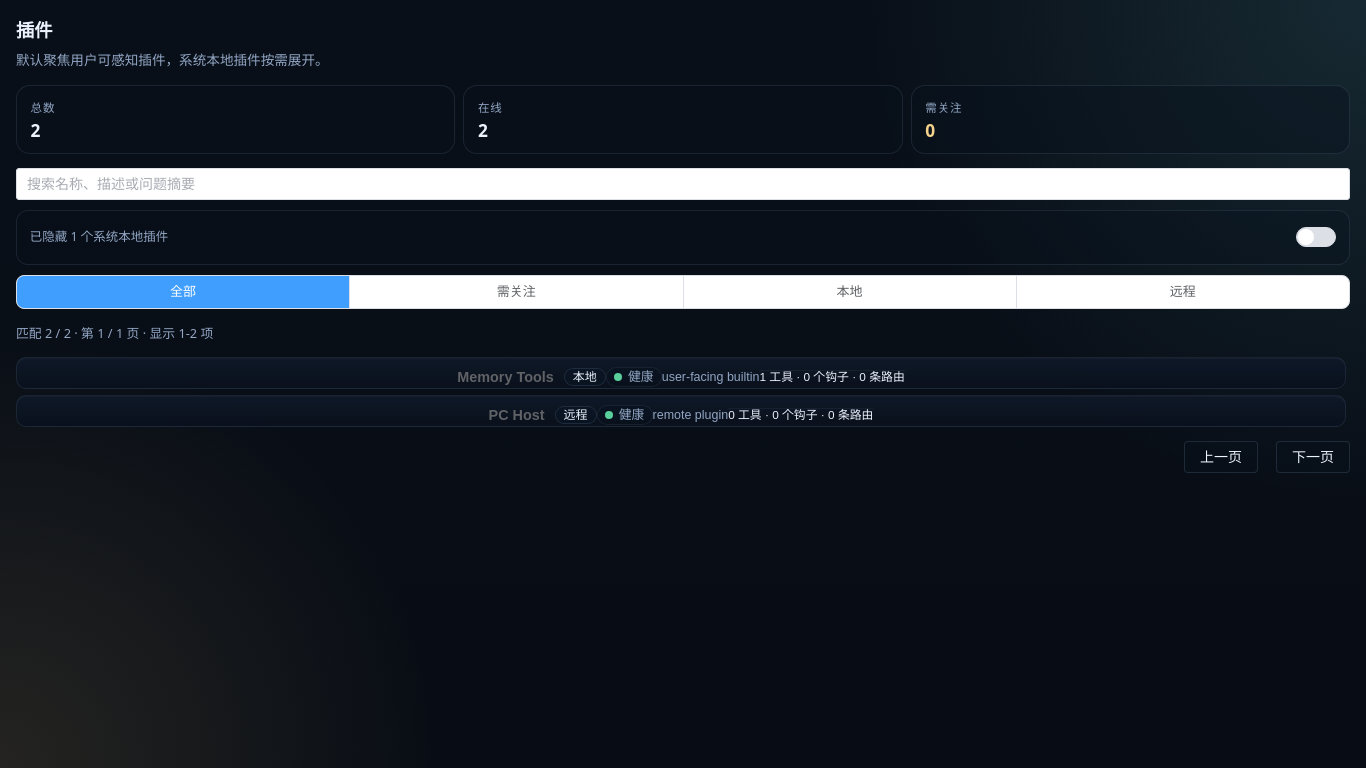
PluginSidebar › hides system builtin plugins by default and reveals them on demand
Expected: the text "Tool Audit" is not shown
Click the switch at (1316, 237), box [1296, 221, 1336, 253]
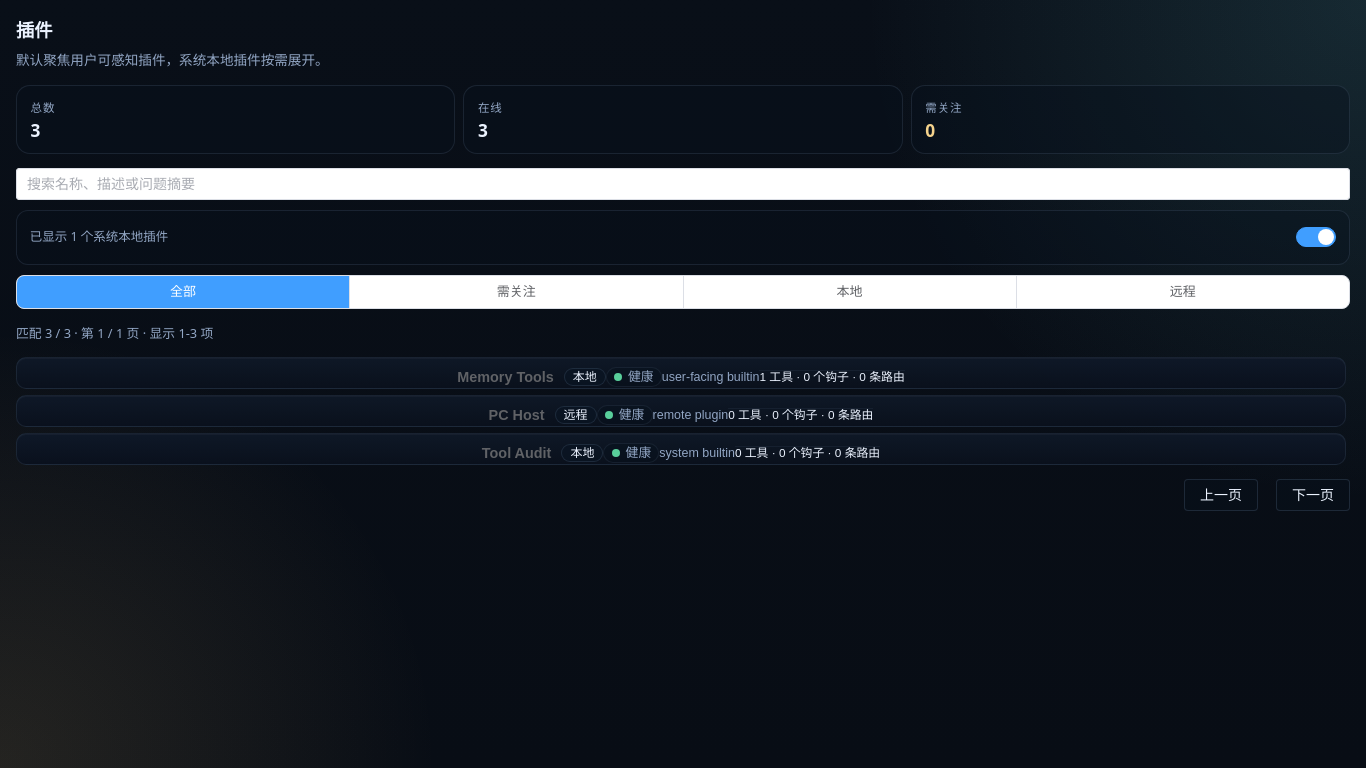
Now the text "Tool Audit" is shown, box [482, 444, 551, 462]
Now the text "已显示 1 个系统本地插件" is shown, box [30, 227, 168, 247]
